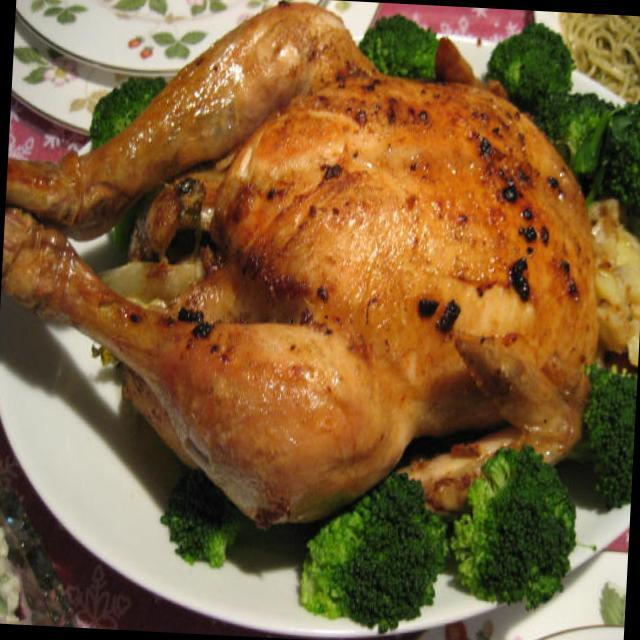Chicken: (0, 0, 613, 488)
